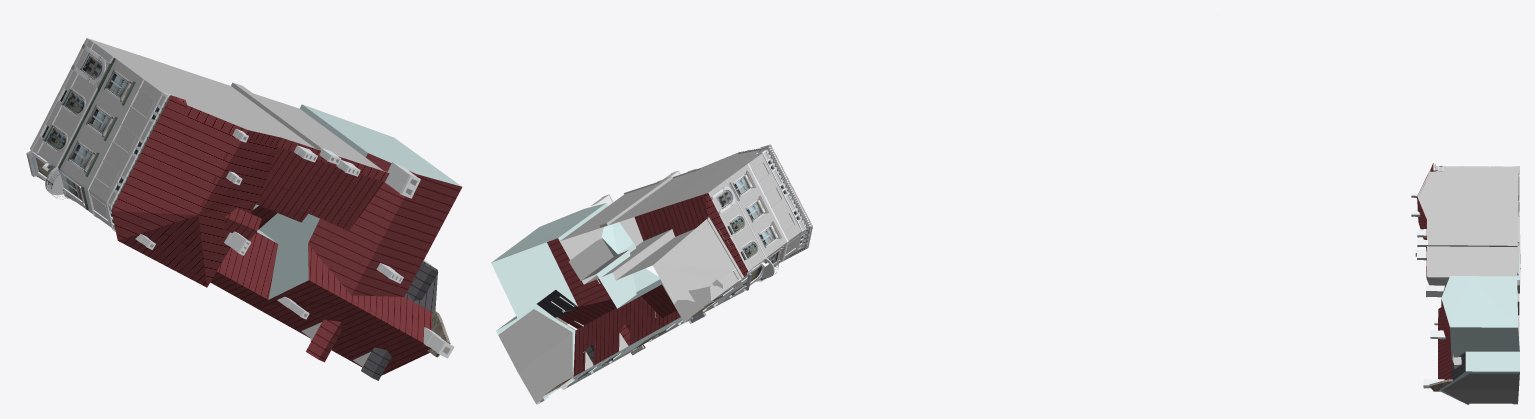
The model's file is Lai_36.obj.
3 renders of one model, left to right at view 1: azimuth 30°, elevation 25°; view 2: azimuth 150°, elevation 25°; view 3: azimuth 270°, elevation 25°, orthographic. The views are drawn at different scales.
Parts seen in each view (by area): view 1: Lai_36; view 2: Lai_36; view 3: Lai_36.
Part boxes in pixels (x1,y1,x2,y2): Lai_36: [26, 38, 462, 380]; Lai_36: [491, 144, 812, 404]; Lai_36: [1217, 14, 1520, 404].
Size of the model in its own units: 60.53 by 41 by 46.74.
